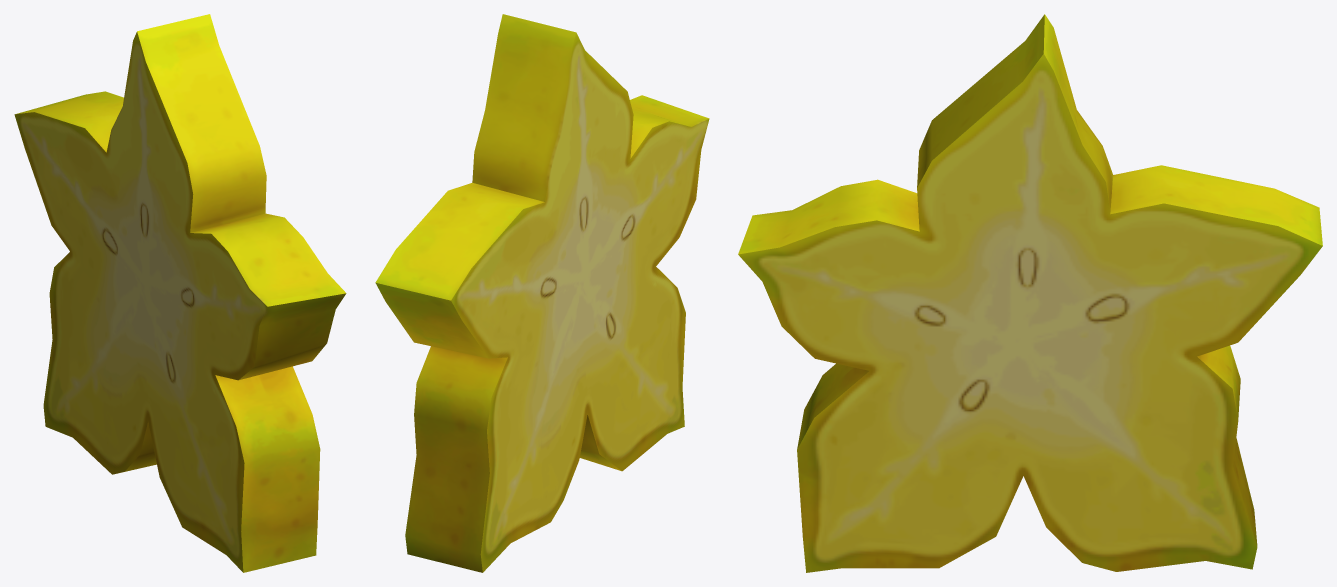
Rendered from SM_StarFruitSlice.fbx.
The picture shows the model from 3 angles, left to right: view 1: azimuth 30°, elevation 25°; view 2: azimuth 150°, elevation 25°; view 3: azimuth 270°, elevation 25°; orthographic projection. The views are drawn at different scales.
Parts seen in each view (by area): view 1: SM_StarFruitSlice; view 2: SM_StarFruitSlice; view 3: SM_StarFruitSlice.
Part boxes in pixels (x1,y1,x2,y2): SM_StarFruitSlice: [14, 14, 346, 572]; SM_StarFruitSlice: [375, 14, 709, 572]; SM_StarFruitSlice: [738, 14, 1322, 572].
Bounding box in the file's own units: 1.83 × 11.21 × 11.44.
